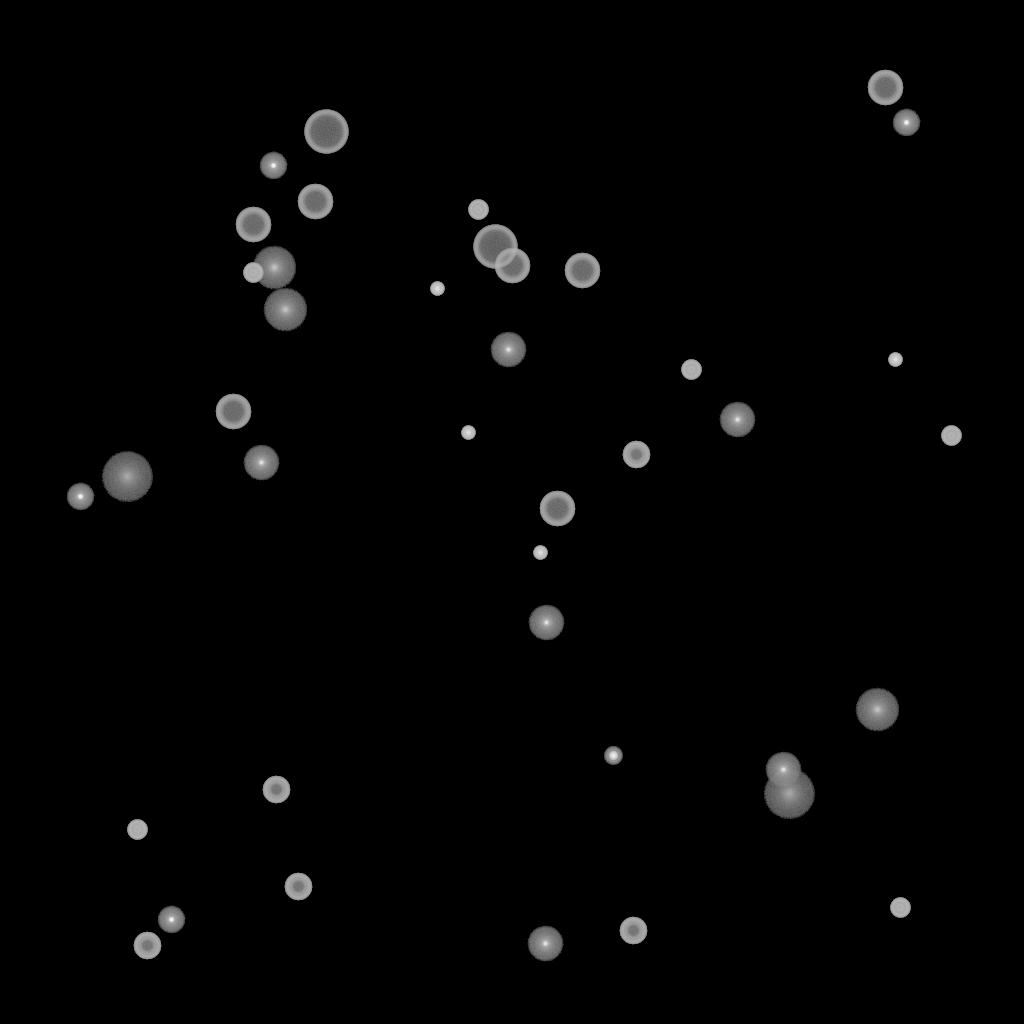depth:-10: (892, 109, 920, 137), (259, 152, 287, 180), (157, 906, 185, 934), (66, 483, 94, 511)
depth:-20: (604, 747, 622, 765)
depth:-30: (461, 426, 475, 440), (533, 546, 547, 560), (888, 353, 902, 367), (430, 282, 444, 296)
depth:-40: (890, 898, 910, 918), (243, 263, 263, 283), (941, 426, 961, 446), (681, 360, 701, 380), (127, 820, 147, 840), (468, 200, 488, 220)
depth:-50: (619, 917, 647, 945), (262, 776, 290, 804), (133, 932, 161, 960), (284, 873, 312, 901), (622, 441, 650, 469)
depth:-60: (867, 70, 903, 106), (564, 253, 600, 289), (215, 394, 251, 430), (539, 491, 575, 527), (494, 248, 530, 284), (297, 184, 333, 220), (235, 207, 271, 243)
depth:-70: (473, 225, 517, 269), (304, 110, 348, 154)
depth:0: (490, 332, 526, 368), (528, 605, 564, 641), (527, 926, 563, 962), (719, 402, 755, 438), (243, 445, 279, 481), (765, 752, 801, 788)
depth:10: (252, 246, 296, 290), (855, 688, 899, 732), (263, 288, 307, 332)
depth:20: (101, 452, 153, 502), (763, 769, 815, 819)
